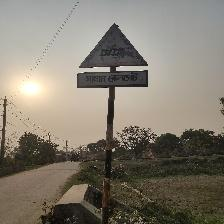Rail-crossing: (78, 23, 149, 89)
